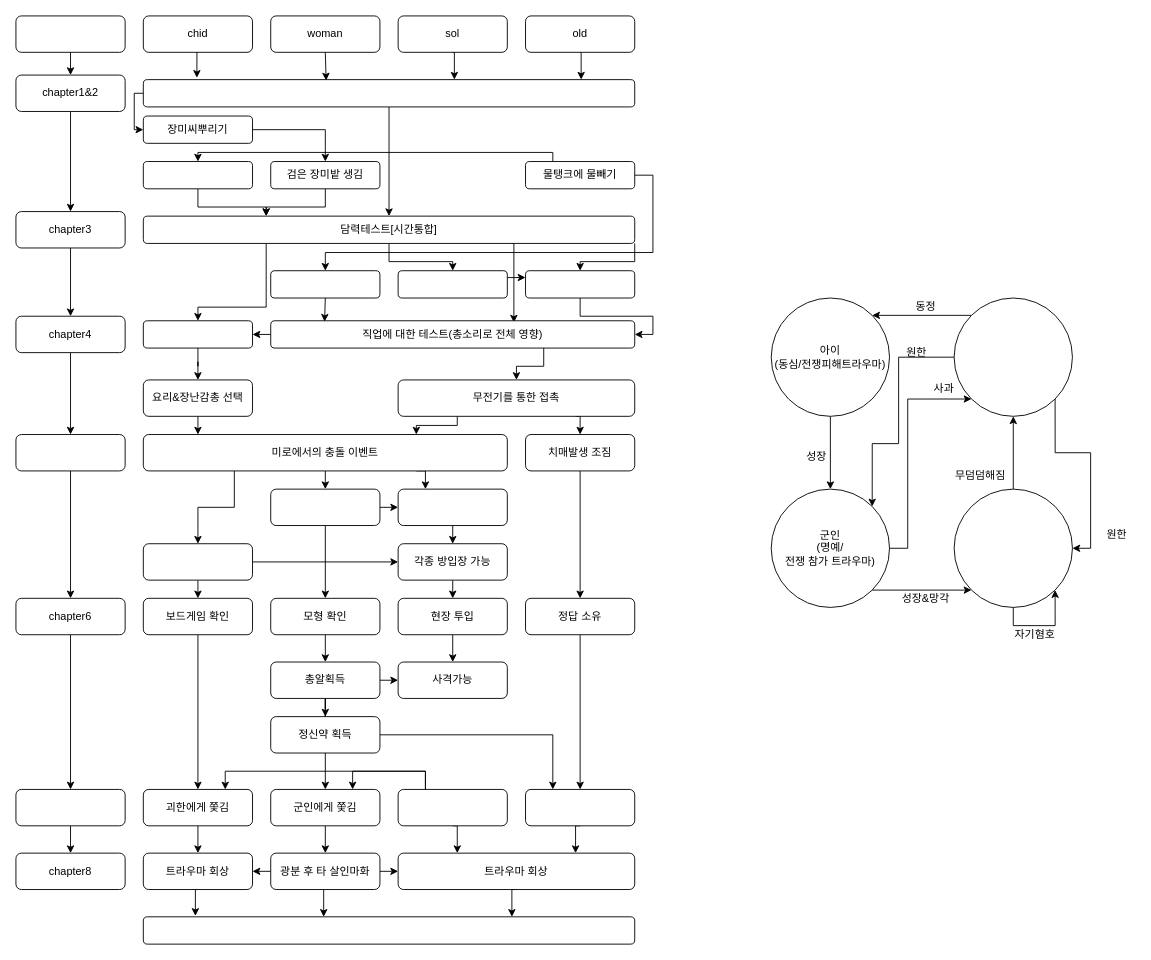
Image size: 1151x960. Some labels were removed from this diagram. Each missing label, with the box of its shape:
chapter & clear timing: (15, 15, 125, 52)
chapter5: (15, 434, 125, 471)
chapter7: (15, 789, 125, 826)
ending: (142, 916, 635, 944)
puzzle& quiz: (142, 79, 635, 107)
결과물 받음: (142, 320, 253, 348)
노인 (치매/현재의 자신): (953, 488, 1072, 607)
망각에게 쫓김: (525, 789, 635, 826)
모형 문개방: (270, 488, 380, 526)
민간인에게 쫓김 (총소리로 전체 영향): (397, 789, 507, 826)
사격: (397, 270, 507, 298)
수영장 물 사라짐: (142, 161, 253, 189)
여인 (살인 트라우마): (953, 297, 1072, 416)
열쇠 부록 획득: (142, 543, 253, 580)
영감: (525, 270, 635, 298)
요리 물 부족: (270, 270, 380, 298)
현장 입장가능: (397, 488, 507, 526)
